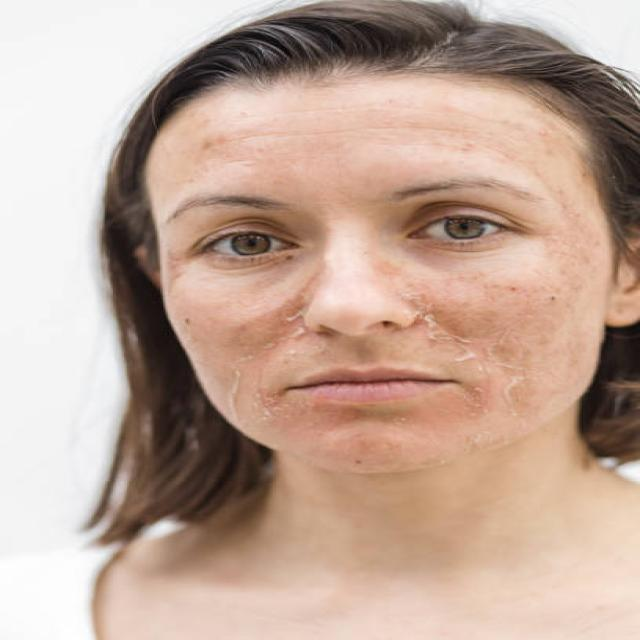dry: (394, 248, 628, 402), (204, 101, 508, 176), (172, 277, 322, 413)
